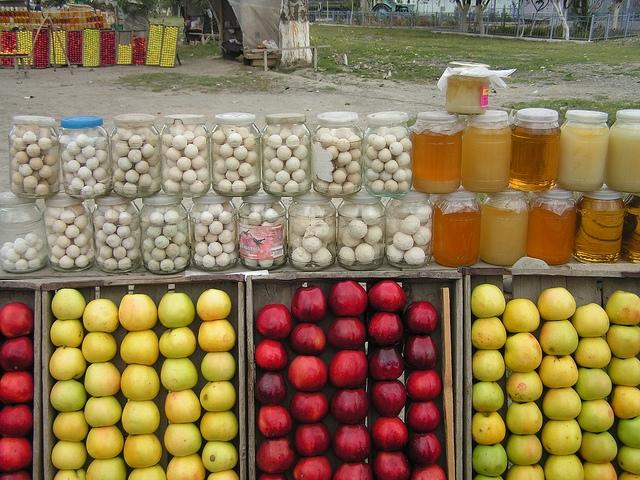apple: (332, 422, 372, 462), (329, 350, 368, 390), (120, 363, 160, 401), (504, 332, 542, 372), (256, 437, 296, 474), (119, 294, 158, 331), (291, 285, 328, 324), (160, 356, 200, 392), (328, 280, 368, 316), (570, 302, 610, 338), (542, 419, 583, 454), (370, 380, 407, 418), (120, 330, 159, 366), (539, 320, 578, 356), (330, 389, 370, 424), (288, 356, 328, 391), (86, 424, 124, 460), (157, 292, 195, 328), (542, 386, 582, 420), (367, 345, 404, 381), (85, 361, 122, 397), (256, 304, 293, 340), (502, 298, 540, 333), (537, 287, 576, 321), (289, 391, 329, 424), (539, 355, 579, 388), (506, 400, 542, 436), (49, 346, 86, 381), (164, 422, 202, 456), (288, 322, 326, 356), (164, 389, 202, 423), (82, 299, 120, 333), (576, 398, 614, 432), (124, 434, 162, 468), (122, 400, 160, 434), (368, 280, 408, 312), (605, 290, 640, 326), (575, 367, 612, 401), (328, 317, 366, 350), (198, 319, 236, 352), (578, 431, 617, 463), (0, 336, 34, 372), (404, 334, 438, 370), (196, 288, 232, 322), (403, 301, 439, 335), (406, 432, 442, 466), (0, 302, 34, 338), (50, 378, 86, 412), (368, 312, 404, 346), (404, 370, 442, 402), (84, 396, 122, 428), (295, 422, 330, 456), (606, 324, 640, 359), (254, 371, 288, 406), (472, 442, 507, 476), (471, 284, 506, 318), (0, 370, 34, 405), (372, 418, 408, 451), (506, 370, 543, 402), (159, 326, 196, 358), (200, 410, 238, 441), (472, 411, 506, 445), (472, 316, 506, 350), (0, 436, 32, 472), (506, 434, 542, 466), (202, 440, 238, 472), (52, 410, 88, 442), (200, 381, 237, 412), (81, 332, 118, 363), (574, 337, 611, 368), (372, 450, 410, 480), (258, 405, 292, 438), (167, 452, 206, 480), (406, 400, 440, 432), (254, 339, 288, 371), (51, 289, 86, 320), (51, 440, 87, 470), (0, 404, 33, 436), (472, 350, 505, 382), (606, 356, 640, 387), (201, 352, 236, 382), (544, 454, 584, 480), (472, 380, 504, 412), (293, 455, 333, 480), (610, 386, 640, 419), (50, 319, 84, 348), (86, 456, 126, 480), (332, 462, 374, 480), (617, 416, 639, 449), (617, 445, 640, 475), (582, 461, 618, 480), (506, 463, 545, 480), (410, 463, 448, 480), (128, 464, 167, 480), (54, 468, 86, 480), (207, 469, 240, 479), (0, 470, 30, 480), (258, 472, 288, 480), (618, 470, 640, 480), (473, 474, 504, 480)
